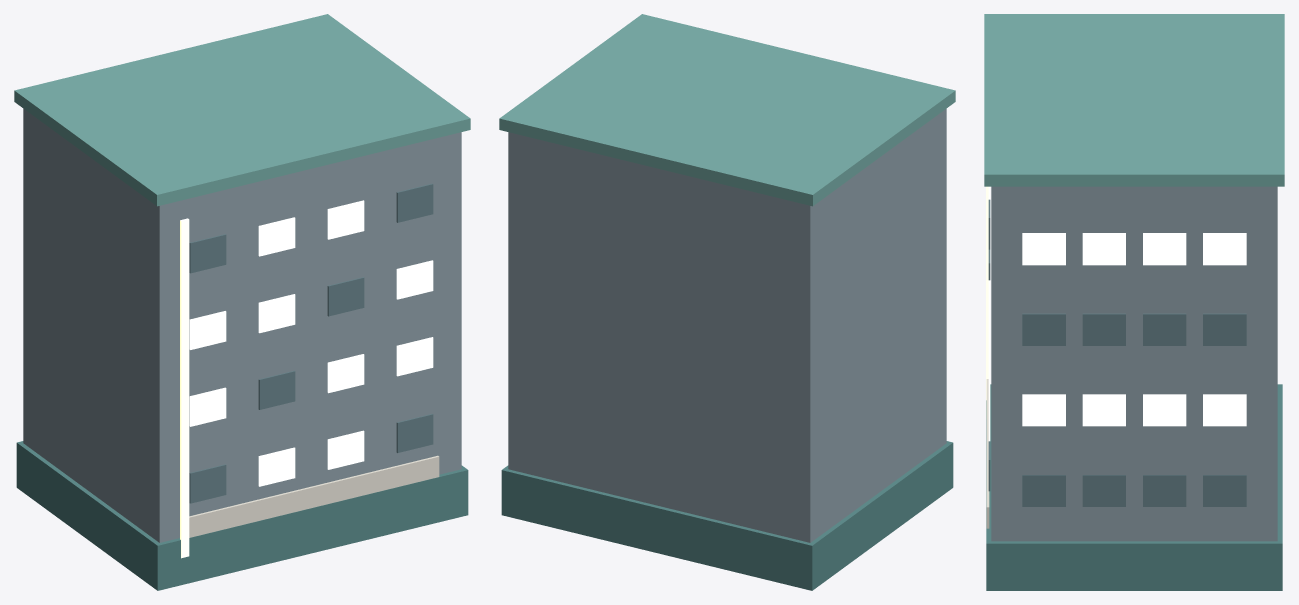
File: yaba_midrise_corner_block.glb
3 views of the same model, side by side, from view 1: azimuth 30°, elevation 25°; view 2: azimuth 150°, elevation 25°; view 3: azimuth 270°, elevation 25° (orthographic). The views are drawn at different scales.
Parts seen in each view (by area): view 1: midrise_mass, midrise_roof_cap, midrise_lower_plinth, midrise_shopfront, midrise_vertical_accent, midrise_window_front_0_-1.2, midrise_window_front_1_1.2, midrise_window_front_2_1.2, midrise_window_front_2_-1.2, midrise_window_front_3_1.2, midrise_window_front_0_1.2, midrise_window_front_0_-3.6 (+9 smaller); view 2: midrise_mass, midrise_roof_cap, midrise_lower_plinth; view 3: midrise_mass, midrise_roof_cap, midrise_lower_plinth, midrise_window_side_1_3.6, midrise_window_side_1_-3.6, midrise_window_side_2_3.6, midrise_window_side_2_-3.6, midrise_window_side_3_3.6, midrise_window_side_3_-3.6, midrise_window_side_1_1.2, midrise_window_side_1_-1.2, midrise_window_side_2_1.2 (+9 smaller).
Boxes of the visible parts, <box> form: midrise_mass: <box>23,109,461,542</box>; midrise_roof_cap: <box>14,14,470,206</box>; midrise_lower_plinth: <box>16,441,468,590</box>; midrise_shopfront: <box>189,455,439,537</box>; midrise_vertical_accent: <box>180,218,189,558</box>; midrise_window_front_0_-1.2: <box>258,447,295,486</box>; midrise_window_front_1_1.2: <box>327,354,364,393</box>; midrise_window_front_2_1.2: <box>327,277,364,316</box>; midrise_window_front_2_-1.2: <box>258,294,295,333</box>; midrise_window_front_3_1.2: <box>327,200,364,239</box>; midrise_window_front_0_1.2: <box>327,430,364,469</box>; midrise_window_front_0_-3.6: <box>189,464,226,503</box>; midrise_mass: <box>508,109,946,542</box>; midrise_roof_cap: <box>499,14,955,206</box>; midrise_lower_plinth: <box>501,441,953,590</box>; midrise_mass: <box>991,186,1277,541</box>; midrise_roof_cap: <box>984,14,1284,186</box>; midrise_lower_plinth: <box>986,384,1282,590</box>; midrise_window_side_1_3.6: <box>1022,394,1065,426</box>; midrise_window_side_1_-3.6: <box>1203,394,1246,426</box>; midrise_window_side_2_3.6: <box>1022,313,1065,345</box>; midrise_window_side_2_-3.6: <box>1203,313,1246,345</box>; midrise_window_side_3_3.6: <box>1022,233,1065,265</box>; midrise_window_side_3_-3.6: <box>1203,233,1246,265</box>; midrise_window_side_1_1.2: <box>1082,394,1125,426</box>; midrise_window_side_1_-1.2: <box>1143,394,1186,426</box>; midrise_window_side_2_1.2: <box>1082,313,1125,345</box>.
Size of what is drawn, in the model's own units: 10.9 by 13.19 by 8.6.
